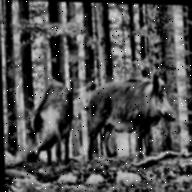boar: (82, 74, 177, 161), (22, 78, 75, 167)
